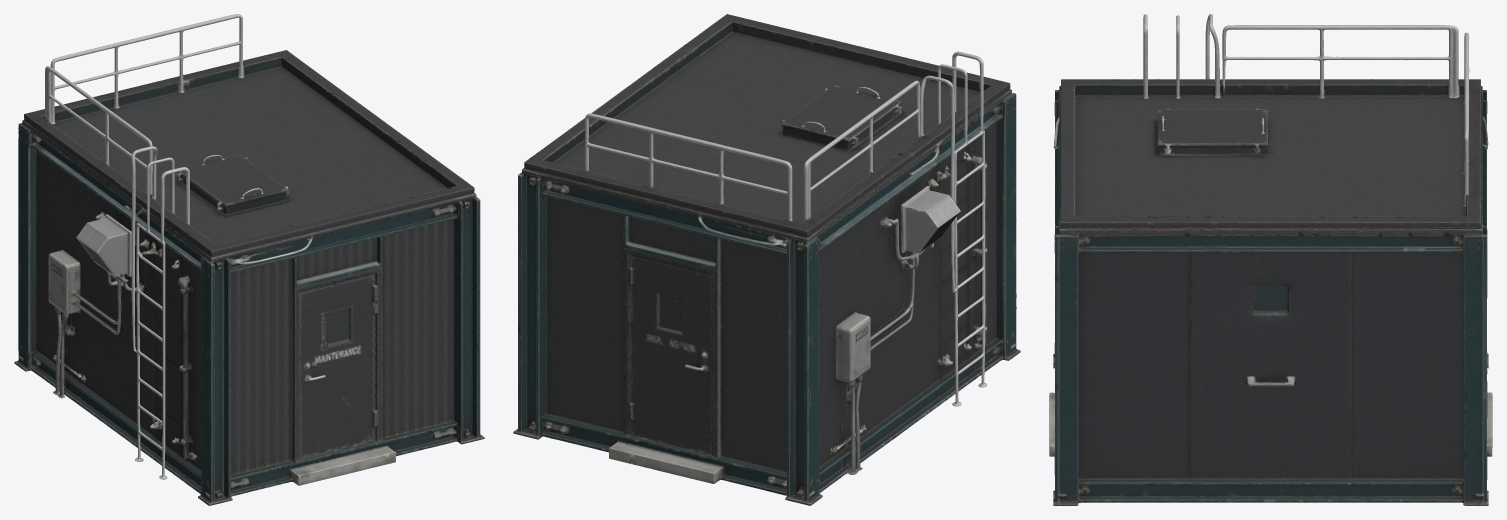
Rendered from Meshy_AI_Maintenance_Utility_M_1023110917_texture.glb.
3 views of the same model, side by side, from view 1: azimuth 30°, elevation 25°; view 2: azimuth 150°, elevation 25°; view 3: azimuth 270°, elevation 25° (orthographic). The views are drawn at different scales.
Bounding box in the file's own units: 1.68 × 1.61 × 1.9.
Materials: 1 (1 with a texture image).
